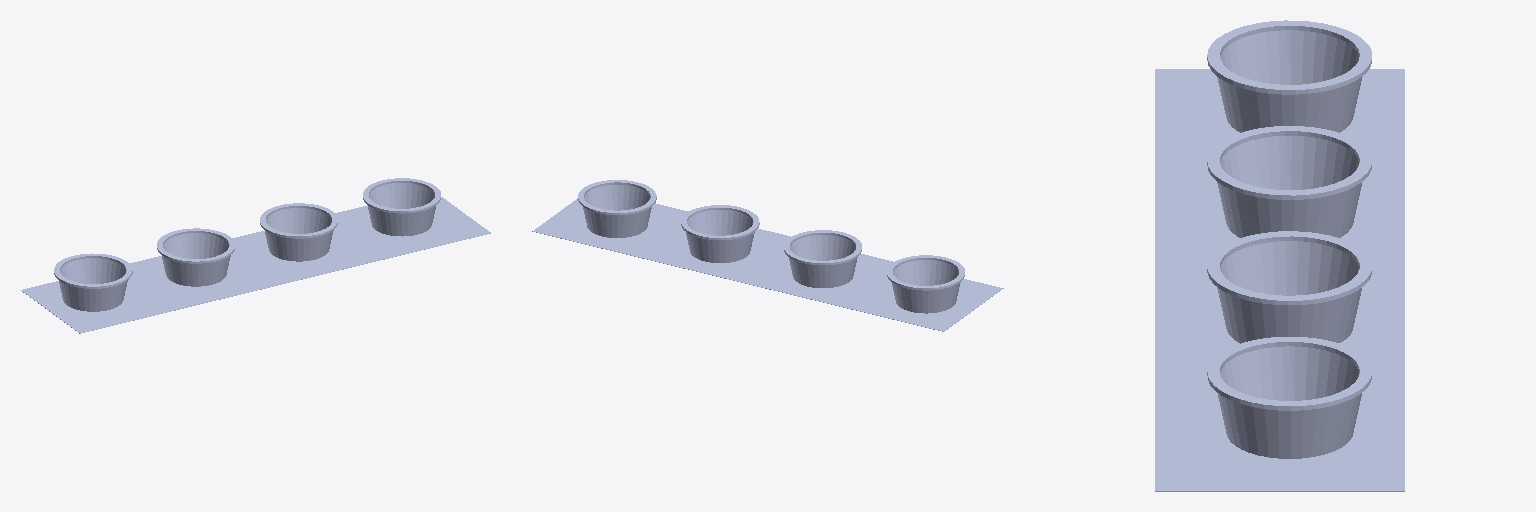
URDF robot description (buckets):
<robot
  name="buckets">
  <link
    name="base_green">
    <inertial>
      <origin
        xyz="2.8272 -0.077022 0.0025"
        rpy="0 0 0" />
      <mass
        value="80" />
      <inertia
        ixx="26.667"
        ixy="5.181E-15"
        ixz="-3.1133E-17"
        iyy="426.67"
        iyz="1.6364E-15"
        izz="453.33" />
    </inertial>
    <visual>
      <origin
        xyz="0 0 0"
        rpy="0 0 0" />
      <geometry>
        <mesh
          filename="package://Buckets/meshes/base_green.STL" />
      </geometry>
      <material
        name="">
        <color
          rgba="0.79216 0.81961 0.93333 1" />
      </material>
    </visual>
    <collision>
      <origin
        xyz="0 0 0"
        rpy="0 0 0" />
      <geometry>
        <mesh
          filename="package://Buckets/meshes/base_green.STL" />
      </geometry>
    </collision>
  </link>
  <link
    name="Bucket_1_Link">
    <inertial>
      <origin
        xyz="-3.8164E-17 0.2323 -1.1102E-16"
        rpy="0 0 0" />
      <mass
        value="469.79" />
      <inertia
        ixx="79.945"
        ixy="-8.3732E-15"
        ixz="-2.176E-14"
        iyy="123.59"
        iyz="-2.3009E-14"
        izz="79.945" />
    </inertial>
    <visual>
      <origin
        xyz="0 0 0"
        rpy="0 0 0" />
      <geometry>
        <mesh
          filename="package://Buckets/meshes/Bucket_1_Link.STL" />
      </geometry>
      <material
        name="">
        <color
          rgba="0.79216 0.81961 0.93333 1" />
      </material>
    </visual>
    <collision>
      <origin
        xyz="0 0 0"
        rpy="0 0 0" />
      <geometry>
        <mesh
          filename="package://Buckets/meshes/Bucket_1_Link.STL" />
      </geometry>
    </collision>
  </link>
  <joint
    name="Bucket_1"
    type="fixed">
    <origin
      xyz="-0.29023 0.0018647 0"
      rpy="1.5708 -1.985E-16 1.6399" />
    <parent
      link="base_green" />
    <child
      link="Bucket_1_Link" />
    <axis
      xyz="0 1 0" />
  </joint>
  <link
    name="Bucket_2_Link">
    <inertial>
      <origin
        xyz="-2.0817E-16 0.2323 2.2204E-16"
        rpy="0 0 0" />
      <mass
        value="469.79" />
      <inertia
        ixx="79.945"
        ixy="-9.471E-16"
        ixz="-6.3949E-14"
        iyy="123.59"
        iyz="-1.4616E-14"
        izz="79.945" />
    </inertial>
    <visual>
      <origin
        xyz="0 0 0"
        rpy="0 0 0" />
      <geometry>
        <mesh
          filename="package://Buckets/meshes/Bucket_2_Link.STL" />
      </geometry>
      <material
        name="">
        <color
          rgba="0.79216 0.81961 0.93333 1" />
      </material>
    </visual>
    <collision>
      <origin
        xyz="0 0 0"
        rpy="0 0 0" />
      <geometry>
        <mesh
          filename="package://Buckets/meshes/Bucket_2_Link.STL" />
      </geometry>
    </collision>
  </link>
  <joint
    name="Bucket_2"
    type="fixed">
    <origin
      xyz="1.7098 0.0018647 0"
      rpy="1.5708 2.3421E-16 1.6354" />
    <parent
      link="base_green" />
    <child
      link="Bucket_2_Link" />
    <axis
      xyz="0 1 0" />
  </joint>
  <link
    name="Bucket_3_Link">
    <inertial>
      <origin
        xyz="-6.8001E-16 0.2323 -8.8818E-16"
        rpy="0 0 0" />
      <mass
        value="469.79" />
      <inertia
        ixx="79.945"
        ixy="6.3819E-15"
        ixz="2.6867E-14"
        iyy="123.59"
        iyz="3.1879E-14"
        izz="79.945" />
    </inertial>
    <visual>
      <origin
        xyz="0 0 0"
        rpy="0 0 0" />
      <geometry>
        <mesh
          filename="package://Buckets/meshes/Bucket_3_Link.STL" />
      </geometry>
      <material
        name="">
        <color
          rgba="0.79216 0.81961 0.93333 1" />
      </material>
    </visual>
    <collision>
      <origin
        xyz="0 0 0"
        rpy="0 0 0" />
      <geometry>
        <mesh
          filename="package://Buckets/meshes/Bucket_3_Link.STL" />
      </geometry>
    </collision>
  </link>
  <joint
    name="Bucket_3"
    type="fixed">
    <origin
      xyz="3.7098 0.0018647 0"
      rpy="1.5708 6.1211E-17 1.5454" />
    <parent
      link="base_green" />
    <child
      link="Bucket_3_Link" />
    <axis
      xyz="0 1 0" />
  </joint>
  <link
    name="Bucket_4_Link">
    <inertial>
      <origin
        xyz="-3.0531E-16 0.2323 -8.8818E-16"
        rpy="0 0 0" />
      <mass
        value="469.79" />
      <inertia
        ixx="79.945"
        ixy="-1.696E-14"
        ixz="-4.9072E-14"
        iyy="123.59"
        iyz="5.0574E-14"
        izz="79.945" />
    </inertial>
    <visual>
      <origin
        xyz="0 0 0"
        rpy="0 0 0" />
      <geometry>
        <mesh
          filename="package://Buckets/meshes/Bucket_4_Link.STL" />
      </geometry>
      <material
        name="">
        <color
          rgba="0.79216 0.81961 0.93333 1" />
      </material>
    </visual>
    <collision>
      <origin
        xyz="0 0 0"
        rpy="0 0 0" />
      <geometry>
        <mesh
          filename="package://Buckets/meshes/Bucket_4_Link.STL" />
      </geometry>
    </collision>
  </link>
  <joint
    name="Bucket_4"
    type="fixed">
    <origin
      xyz="5.7098 0.0018647 0"
      rpy="1.5708 6.1226E-17 1.5822" />
    <parent
      link="base_green" />
    <child
      link="Bucket_4_Link" />
    <axis
      xyz="0 1 0" />
  </joint>
</robot>

--- Facts derived from the render (not from the file) ---
3 views of the same robot in one strip: view 1: azimuth 30°, elevation 25°; view 2: azimuth 150°, elevation 25°; view 3: azimuth 270°, elevation 25° (orthographic).
Model buckets with 5 links and 4 joints (4 fixed), rooted at base_green, posed all joints at 0.
Links seen in each view (by area): view 1: base_green, Bucket_2_Link, Bucket_1_Link, Bucket_3_Link, Bucket_4_Link; view 2: base_green, Bucket_3_Link, Bucket_4_Link, Bucket_2_Link, Bucket_1_Link; view 3: base_green, Bucket_4_Link, Bucket_3_Link, Bucket_2_Link, Bucket_1_Link.
Link boxes in pixels (x1,y1,x2,y2): base_green: (21, 197, 490, 333); Bucket_2_Link: (157, 228, 234, 286); Bucket_1_Link: (54, 253, 132, 311); Bucket_3_Link: (260, 203, 337, 261); Bucket_4_Link: (363, 178, 440, 236); base_green: (532, 198, 1003, 331); Bucket_3_Link: (681, 205, 759, 262); Bucket_4_Link: (578, 180, 656, 237); Bucket_2_Link: (784, 230, 861, 287); Bucket_1_Link: (887, 255, 964, 313); base_green: (1155, 69, 1404, 491); Bucket_4_Link: (1207, 337, 1371, 458); Bucket_3_Link: (1207, 231, 1371, 343); Bucket_2_Link: (1207, 126, 1371, 237); Bucket_1_Link: (1207, 20, 1371, 132).
Size in the robot's own frame: 8 by 2 by 0.55 metres.
5 mesh visuals loaded from 5 distinct referenced files (5 binary STL).